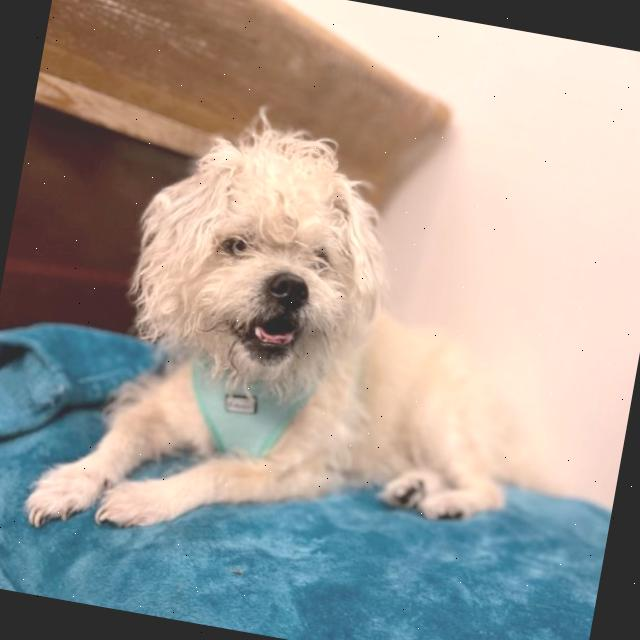Poodle_dog: (104, 92, 414, 427)
